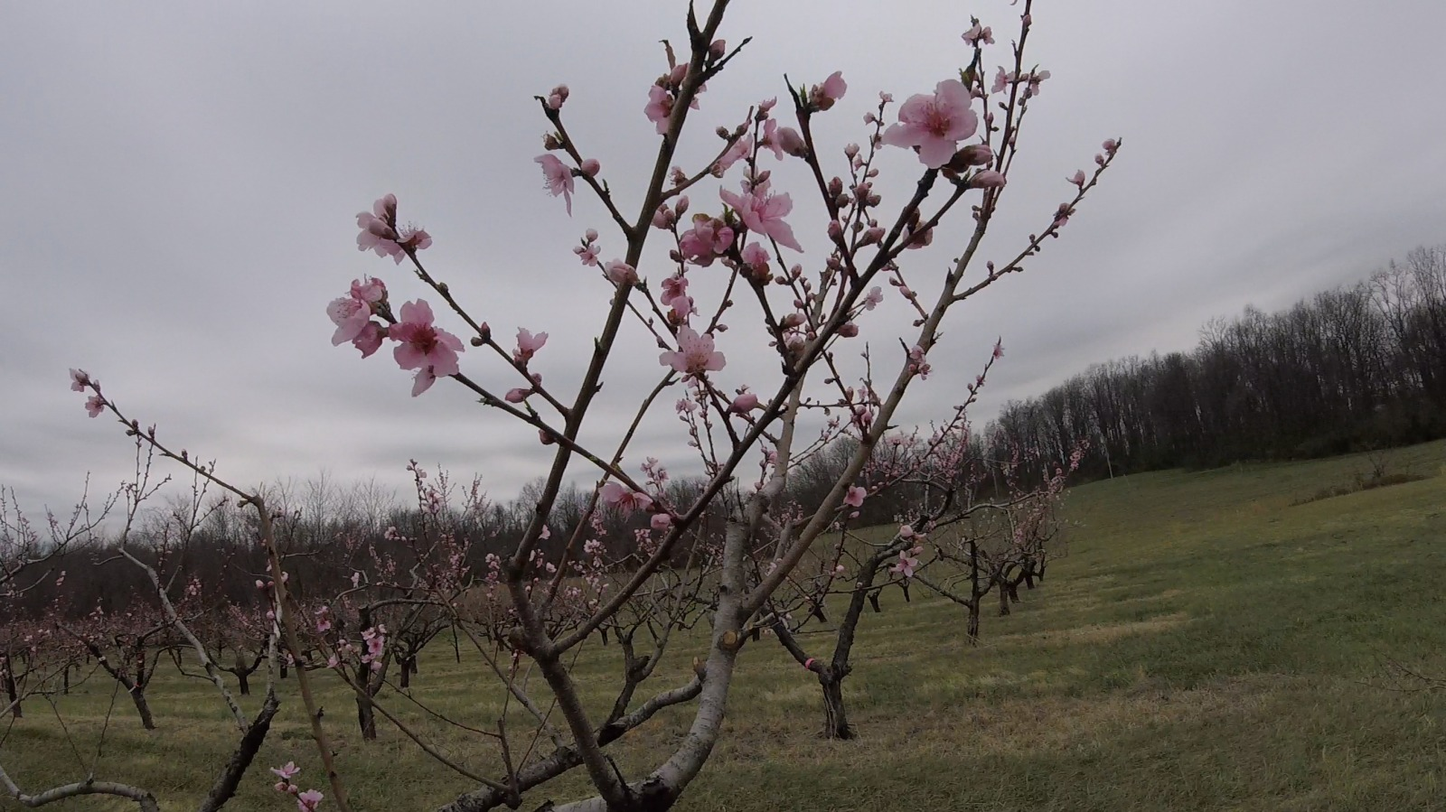flower: (326, 274, 465, 397), (874, 79, 982, 157), (719, 178, 803, 251), (356, 194, 433, 266), (659, 325, 727, 383), (679, 214, 734, 268), (536, 154, 579, 218), (598, 478, 654, 523), (756, 118, 803, 162), (661, 267, 700, 320), (644, 85, 671, 136), (719, 133, 754, 169), (962, 15, 996, 48), (517, 327, 549, 355), (361, 628, 384, 664), (820, 71, 848, 100), (603, 260, 635, 285), (909, 348, 932, 381), (650, 201, 677, 229), (740, 242, 771, 266), (890, 551, 918, 577), (991, 66, 1016, 95), (971, 170, 1005, 188), (969, 140, 993, 165), (844, 483, 868, 508), (578, 244, 601, 267), (863, 287, 884, 312), (70, 369, 91, 393), (734, 391, 759, 411), (299, 789, 324, 809), (757, 93, 780, 114), (274, 761, 300, 779), (548, 87, 569, 109), (652, 514, 672, 537), (314, 612, 334, 633), (86, 396, 105, 418), (865, 225, 886, 244), (505, 388, 531, 403), (671, 63, 690, 83), (581, 159, 600, 179), (328, 649, 343, 674), (1030, 81, 1043, 106), (1066, 170, 1085, 185), (895, 526, 914, 539), (586, 229, 599, 243), (844, 144, 860, 154), (864, 113, 876, 126), (1039, 71, 1051, 81), (512, 350, 521, 360), (959, 69, 967, 76), (764, 112, 769, 117), (1033, 74, 1038, 78)
